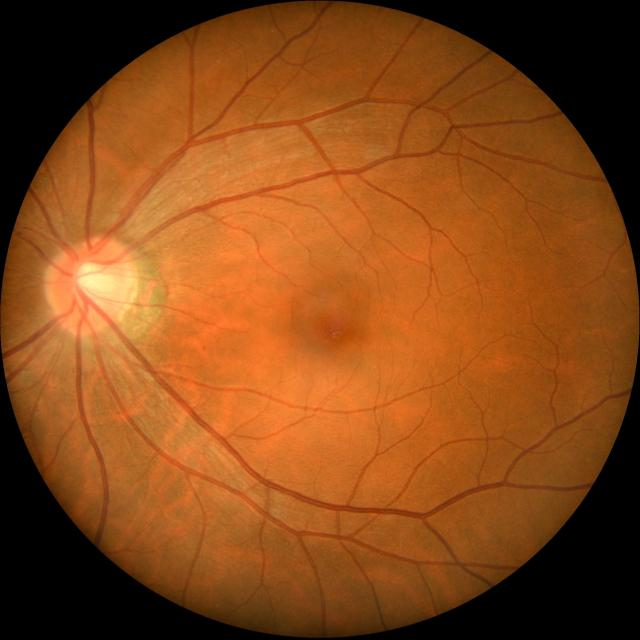OC: (76, 263, 111, 299)
OD: (48, 238, 136, 334)
